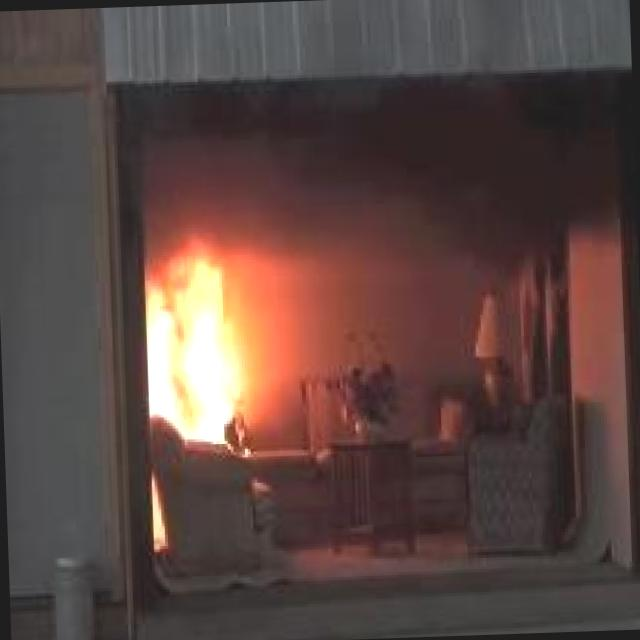fire: (118, 212, 292, 458)
